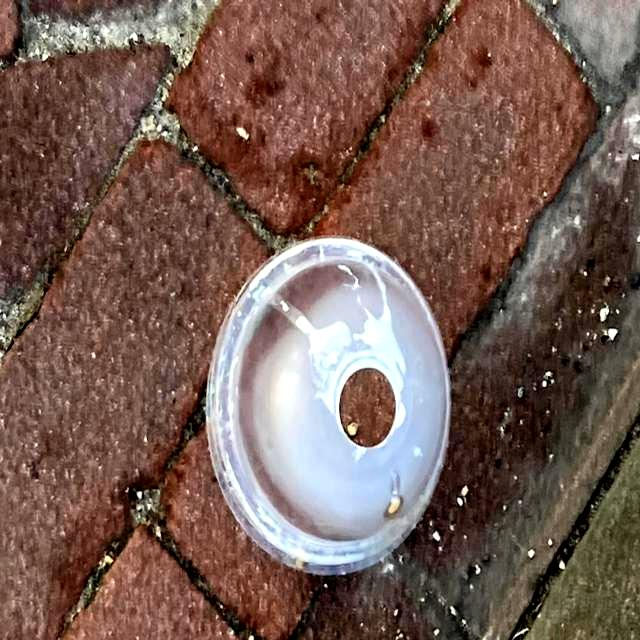Paper: (202, 230, 454, 580)
